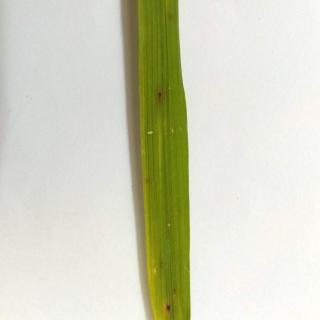bercak-Cokelat: (153, 85, 168, 103), (143, 174, 155, 188), (164, 301, 172, 318)
